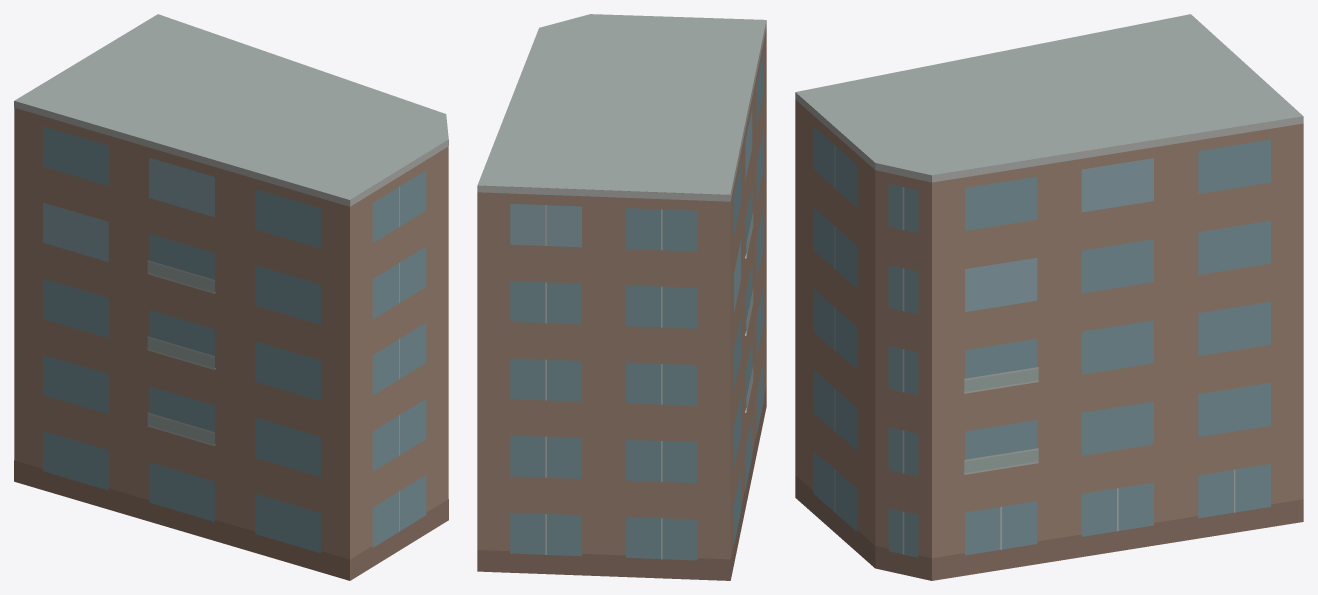
The model's file is survey-upis-32882550.glb.
3 views of the same model, side by side, from view 1: azimuth 30°, elevation 25°; view 2: azimuth 150°, elevation 25°; view 3: azimuth 270°, elevation 25° (orthographic). The views are drawn at different scales.
Visible parts, largest first — view 1: survey-upis-32882550.tmp; view 2: survey-upis-32882550.tmp; view 3: survey-upis-32882550.tmp.
Part boxes in pixels (x1,y1,x2,y2): survey-upis-32882550.tmp: (14,14,448,580); survey-upis-32882550.tmp: (477,14,766,580); survey-upis-32882550.tmp: (795,14,1303,580).
Bounding box in the file's own units: 11.7 × 13.7 × 15.57.
